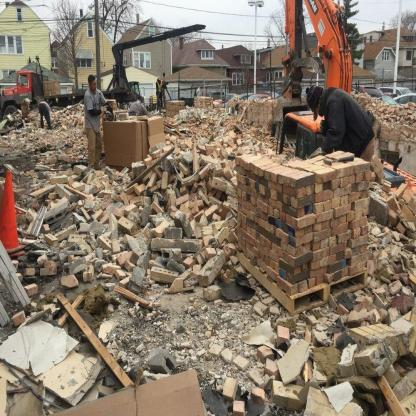brick: (0, 89, 416, 415)
